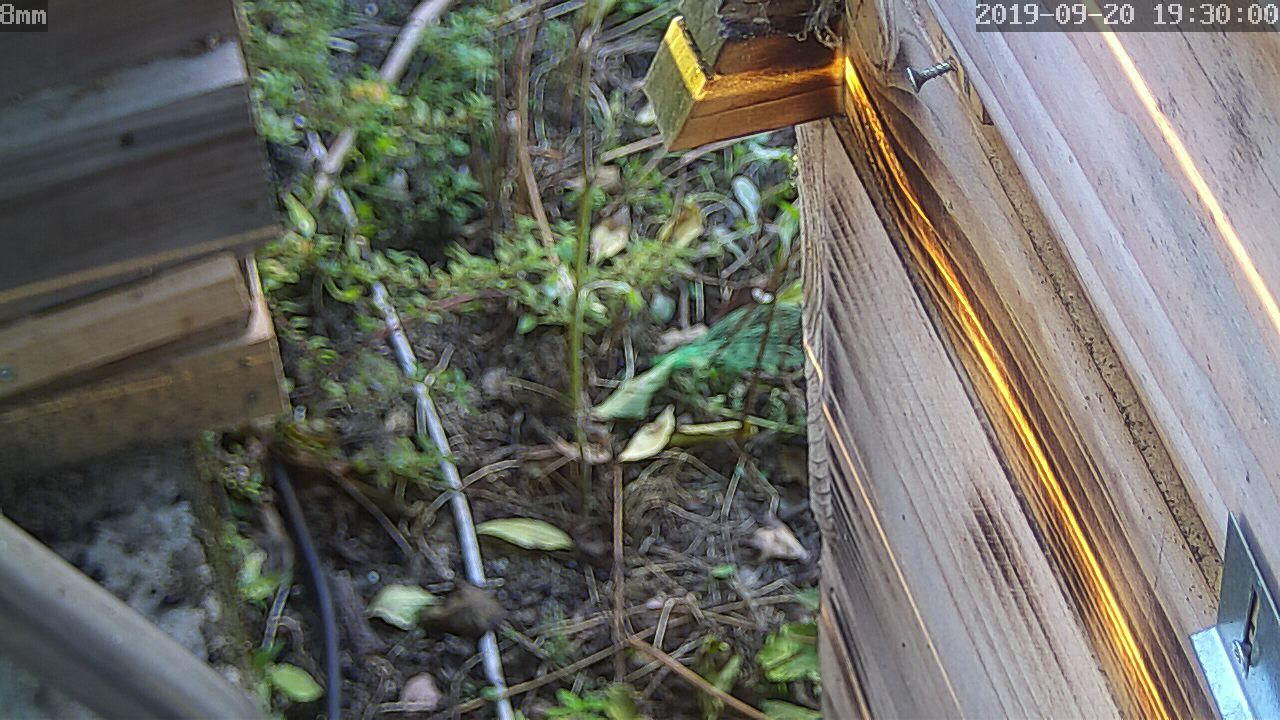hornet: (127, 0, 1094, 720)
